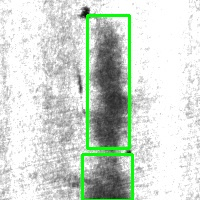patches: (87, 15, 129, 148), (82, 154, 132, 200)
